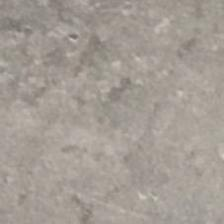Non_Crack: (40, 27, 206, 201)
